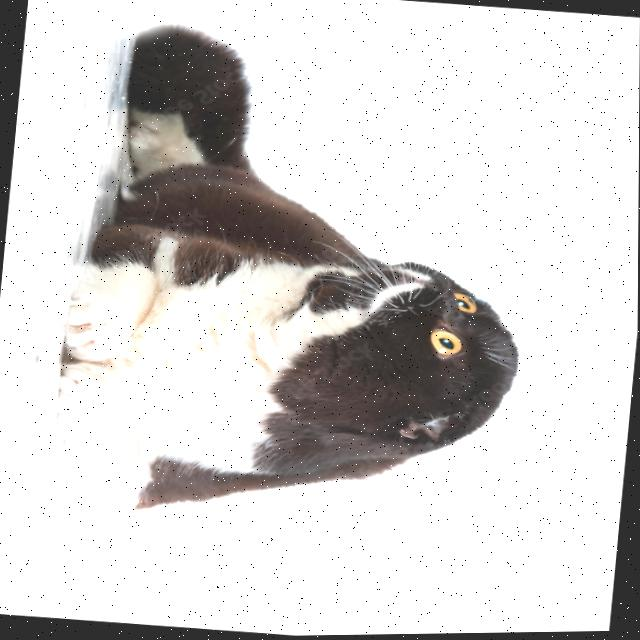Scottish Fold: (39, 8, 560, 551)
